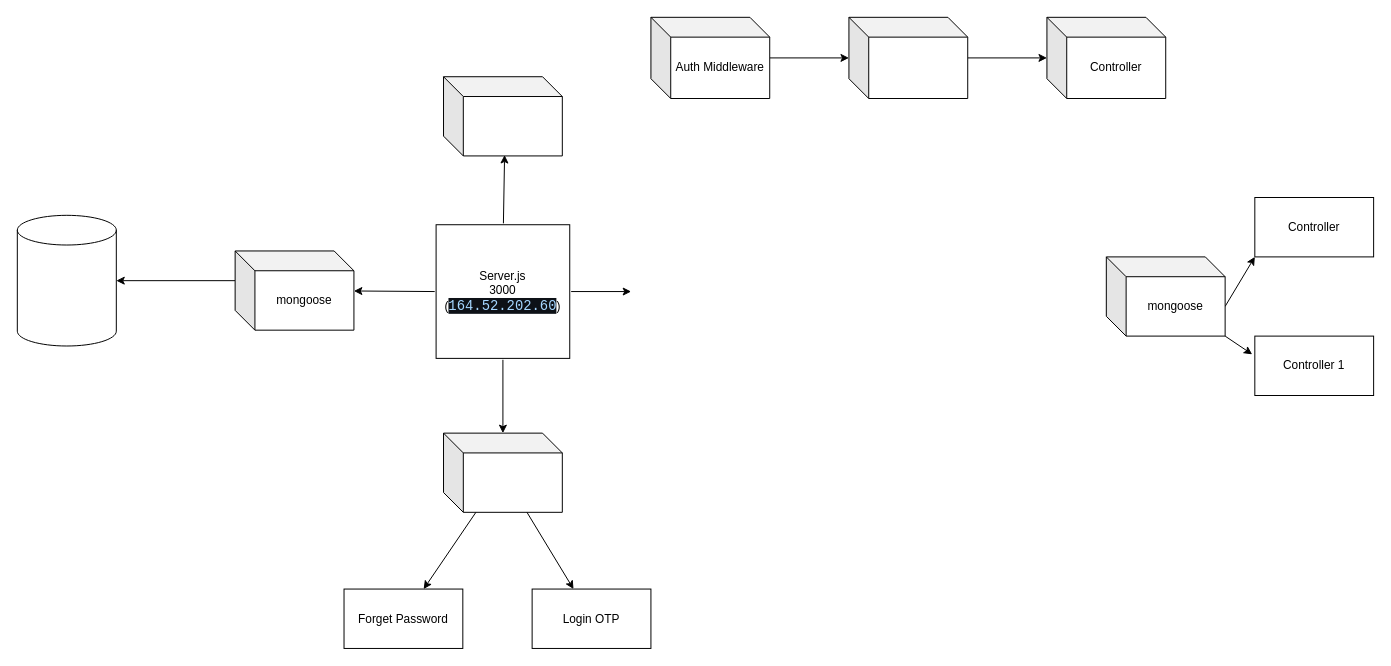
The diagram is 1391 pixels wide and 666 high, and some of its shapes have lost their labels. Here are the shapes that lost their labels. From the top down, the box of each, then its label:
(848, 16, 968, 99): Logincheck Middleware
(443, 76, 562, 156): Model
(16, 214, 116, 346): Atlas Dummy DATA
(443, 432, 562, 512): view
